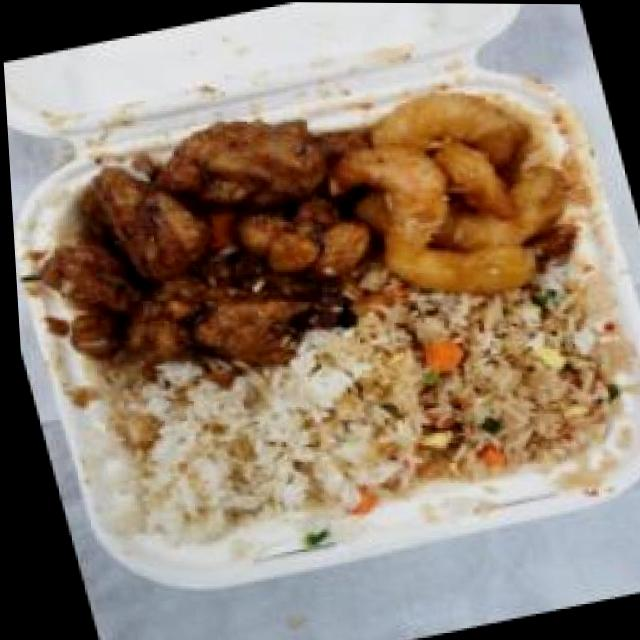Fried Rice: (339, 254, 640, 516)
Honey Walnut Shrimp: (304, 55, 615, 326)
The Original Orange Chicken: (4, 90, 406, 397)
White Steamed Rice: (68, 335, 406, 567)
